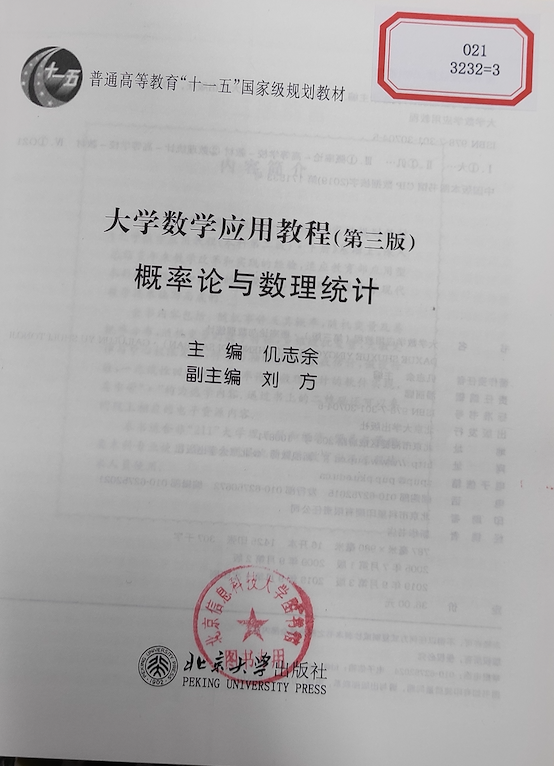Text_area: (109, 189, 412, 401), (153, 550, 361, 704), (26, 31, 349, 121), (375, 3, 544, 103)
